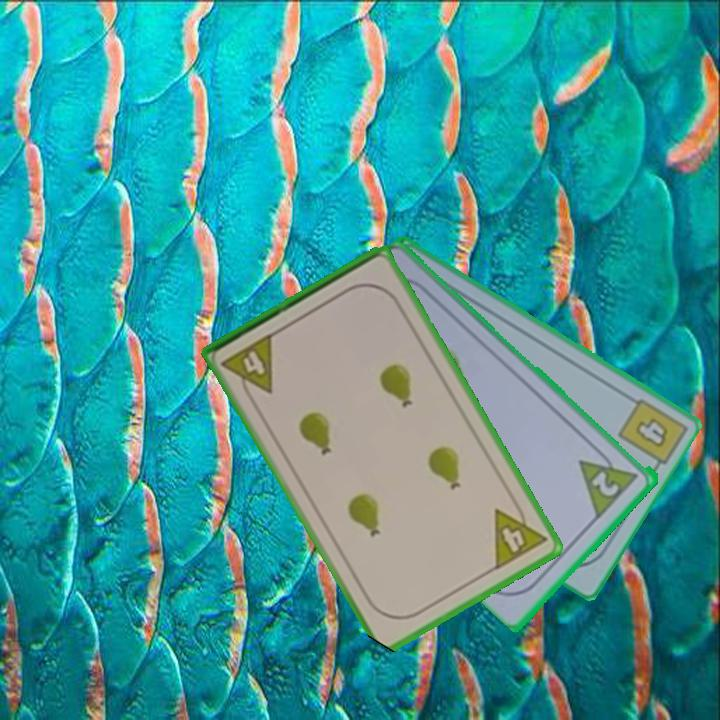2p: (575, 441, 643, 520)
4b: (632, 414, 672, 451)
4p: (490, 495, 550, 573), (218, 329, 277, 405)
